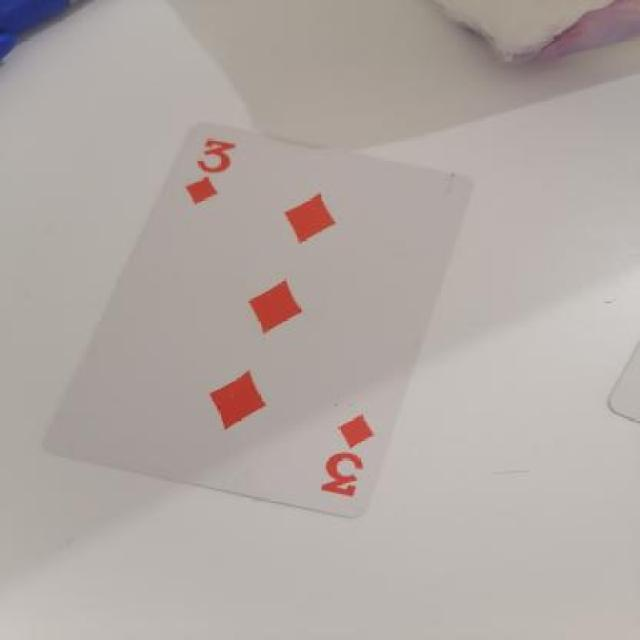3D: (305, 412, 400, 511), (175, 128, 252, 226)
